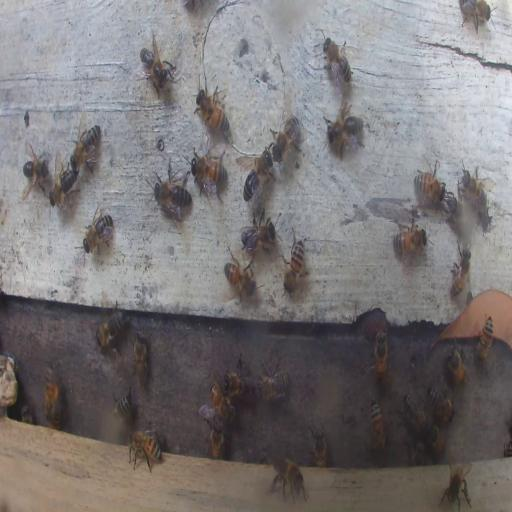nonpollenbee: (140, 34, 178, 94), (326, 100, 366, 157), (152, 164, 192, 220), (266, 455, 307, 503), (242, 144, 274, 204), (196, 80, 230, 134), (458, 161, 490, 218), (70, 122, 102, 176), (270, 110, 302, 164), (320, 34, 352, 88), (441, 460, 473, 512), (49, 156, 79, 210), (82, 206, 114, 256), (283, 228, 306, 294), (21, 142, 49, 196), (127, 430, 162, 473), (256, 358, 289, 402), (392, 214, 426, 256), (191, 150, 225, 192), (241, 215, 275, 256), (224, 256, 255, 299), (94, 309, 126, 349), (400, 393, 429, 435), (413, 165, 446, 201), (450, 244, 472, 297), (447, 195, 474, 238), (368, 398, 389, 453), (459, 1, 494, 34), (427, 384, 455, 425), (132, 329, 149, 386), (210, 382, 234, 422), (445, 346, 468, 384), (224, 363, 250, 396), (476, 316, 494, 363), (310, 424, 328, 468), (374, 329, 388, 383), (422, 424, 444, 456), (207, 420, 224, 458), (114, 386, 133, 419), (412, 438, 430, 462), (21, 404, 35, 422)
pollenbee: (42, 365, 60, 427)
